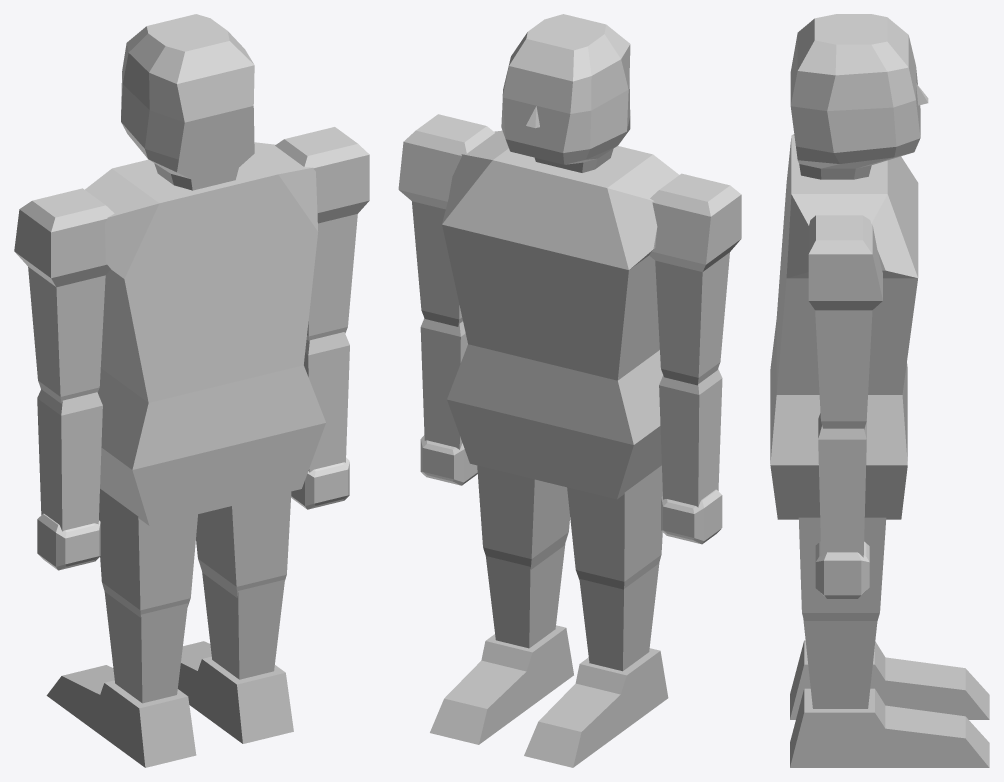
File: champ1.gltf
3 views of the same model, side by side, from view 1: azimuth 30°, elevation 25°; view 2: azimuth 150°, elevation 25°; view 3: azimuth 270°, elevation 25° (orthographic). The views are drawn at different scales.
Parts seen in each view (by area): view 1: Cube, Cube.001, Cube.006, Cube.004, Cube.007, Cube.003, Cube.002, Cube.010, Cube.008, Cube.013, Cube.005, Cube.009; view 2: Cube, Cube.001, Cube.006, Cube.004, Cube.007, Cube.002, Cube.008, Cube.003, Cube.010, Cube.013, Cube.005, Cube.009; view 3: Cube, Cube.001, Cube.007, Cube.008, Cube.013, Cube.002, Cube.009, Cube.010.
Part boxes in pixels (x1,y1,x2,y2): Cube: (85, 142, 325, 525); Cube.001: (121, 14, 254, 190); Cube.006: (14, 188, 114, 403); Cube.004: (37, 389, 102, 570); Cube.007: (275, 127, 369, 341); Cube.003: (99, 489, 197, 617); Cube.002: (46, 665, 196, 767); Cube.010: (196, 491, 291, 597); Cube.008: (178, 641, 293, 743); Cube.013: (291, 332, 349, 509); Cube.005: (104, 592, 187, 703); Cube.009: (202, 572, 284, 679); Cube: (442, 130, 678, 499); Cube.001: (501, 14, 630, 172); Cube.006: (649, 173, 741, 385); Cube.004: (659, 369, 722, 544); Cube.007: (398, 114, 494, 326); Cube.002: (524, 648, 668, 767); Cube.008: (430, 625, 573, 744); Cube.003: (567, 465, 662, 589); Cube.010: (477, 465, 569, 569); Cube.013: (420, 318, 477, 485); Cube.005: (579, 563, 659, 671); Cube.009: (485, 544, 565, 648); Cube: (770, 134, 918, 519); Cube.001: (790, 14, 928, 179); Cube.007: (808, 215, 882, 429); Cube.008: (790, 688, 989, 767); Cube.013: (815, 413, 869, 598); Cube.002: (790, 640, 989, 719); Cube.009: (803, 619, 877, 708); Cube.010: (798, 517, 886, 620).
Size of the model in its own units: 0.8903 by 1.85 by 0.5247.
1 material, 1 textured.
